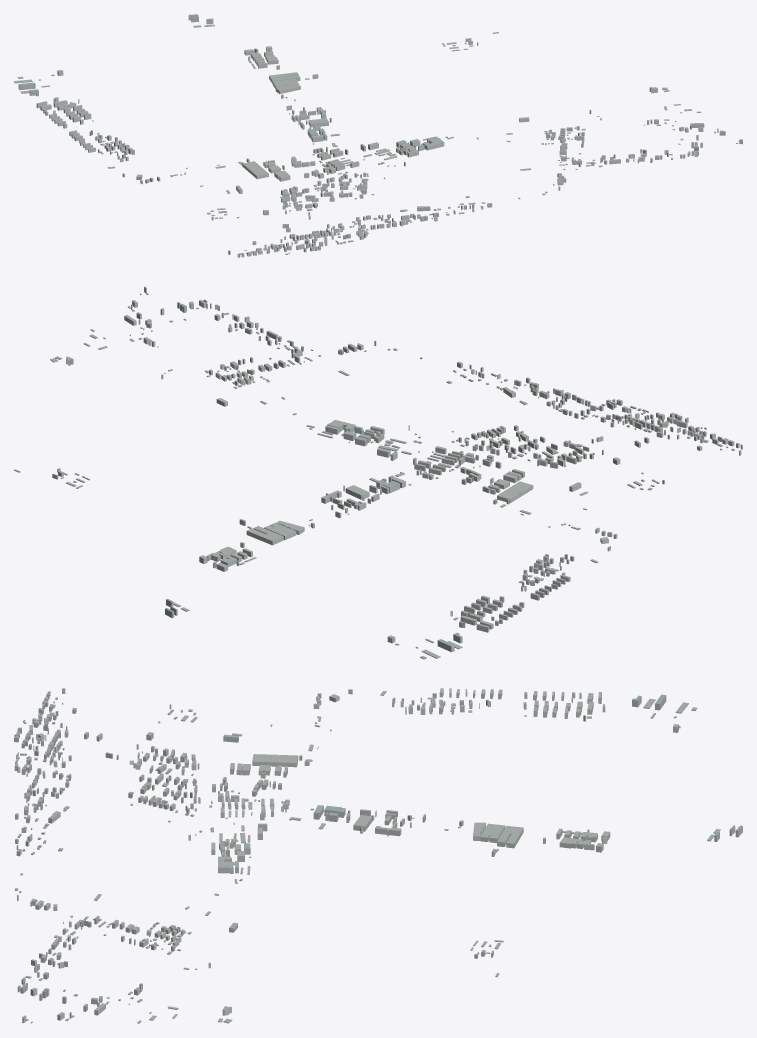
File: far.glb
3 renders of one model, top to bottom at view 1: azimuth 30°, elevation 25°; view 2: azimuth 150°, elevation 25°; view 3: azimuth 270°, elevation 25°, orthographic. The views are drawn at different scales.
Size of the model in its own units: 2096 by 20 by 1945.
